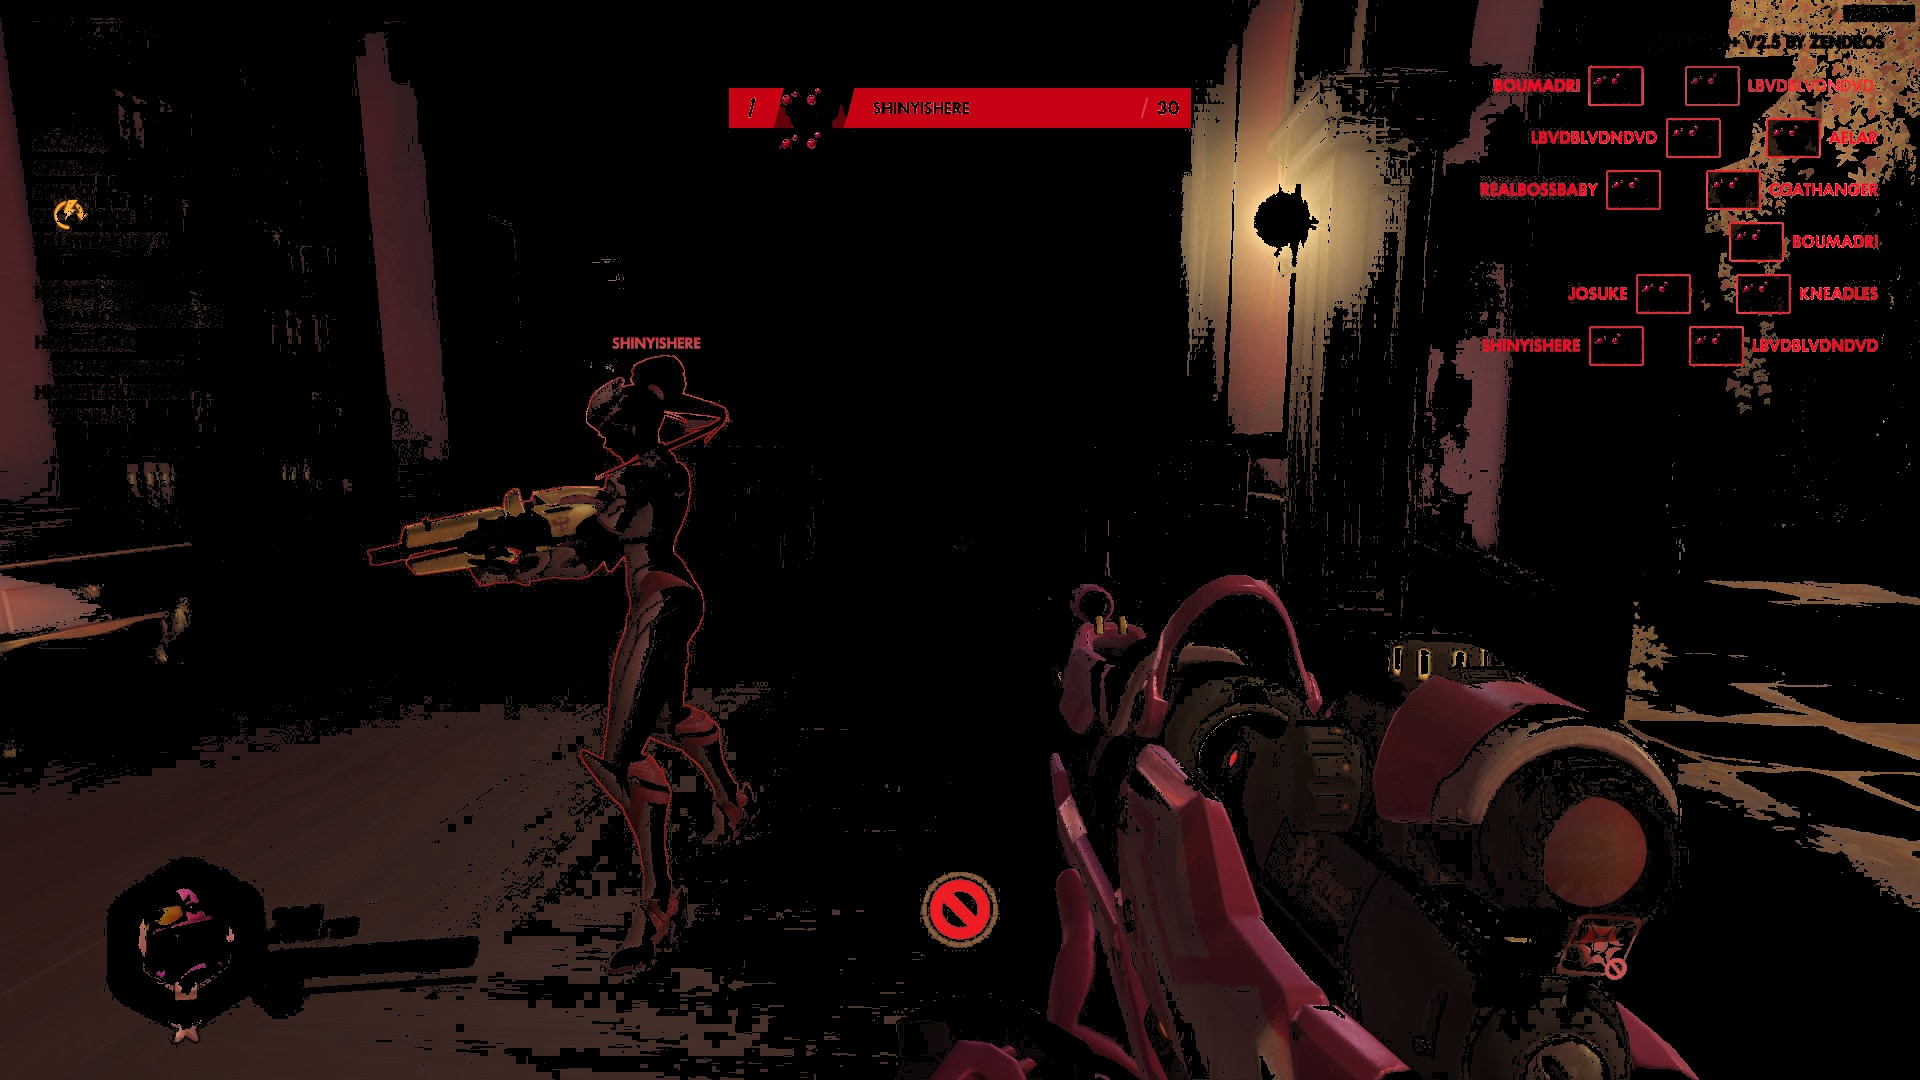widowmaker: (468, 353, 756, 992)
